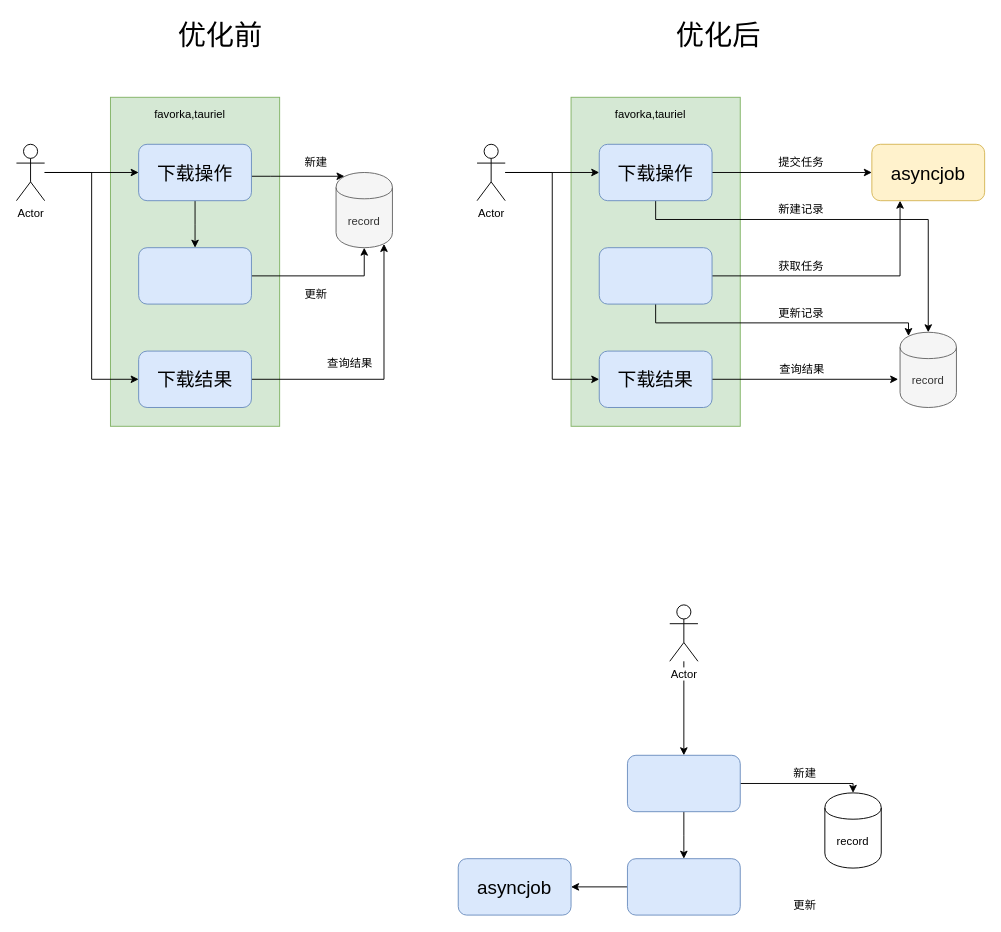
This 1001x932 diagram has some shape labels left out. Here are the shapes that lost their labels. From the top down, the box of each, then its label:
(138, 247, 251, 304): 线程下载
(598, 247, 712, 304): 消费任务
(627, 754, 740, 812): favorka tauriel
(627, 858, 740, 915): 提交异步任务
